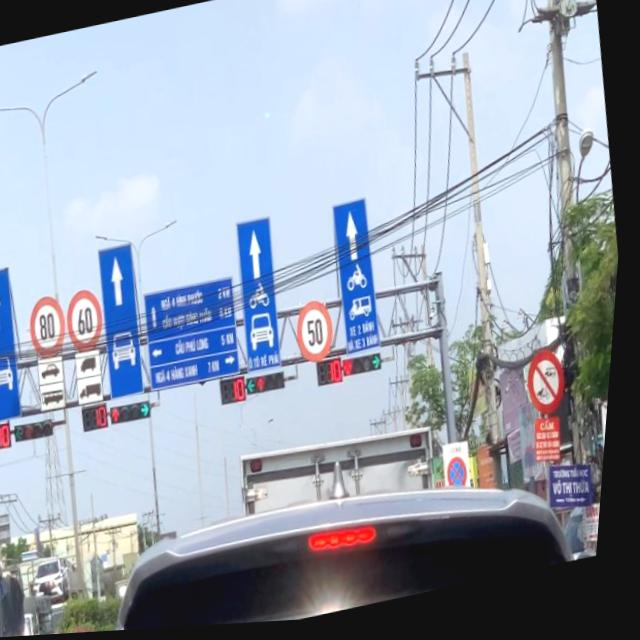Cam dung xe va do xe: (452, 461, 479, 499)
Toc do toi da cho phep: (28, 293, 78, 364), (296, 301, 345, 371), (66, 286, 114, 356)
